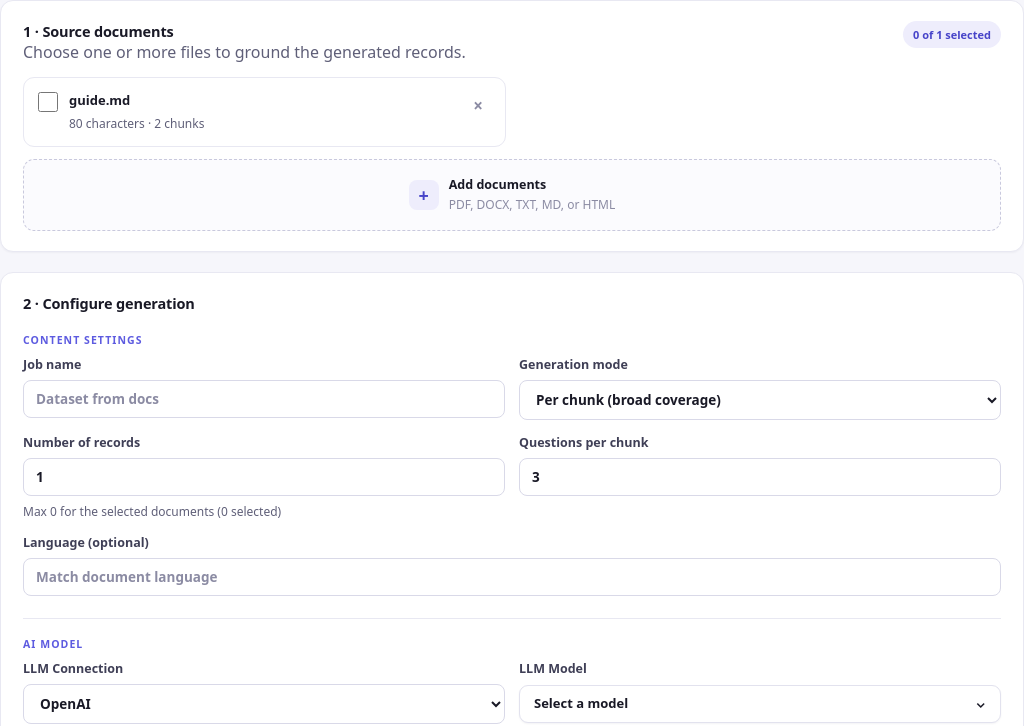
it: GenerateWizard › shows document delete failures and keeps the document
Click the button named "Delete guide.md".
click(478, 105)  # box top-left (465, 92), bottom-right (491, 118)
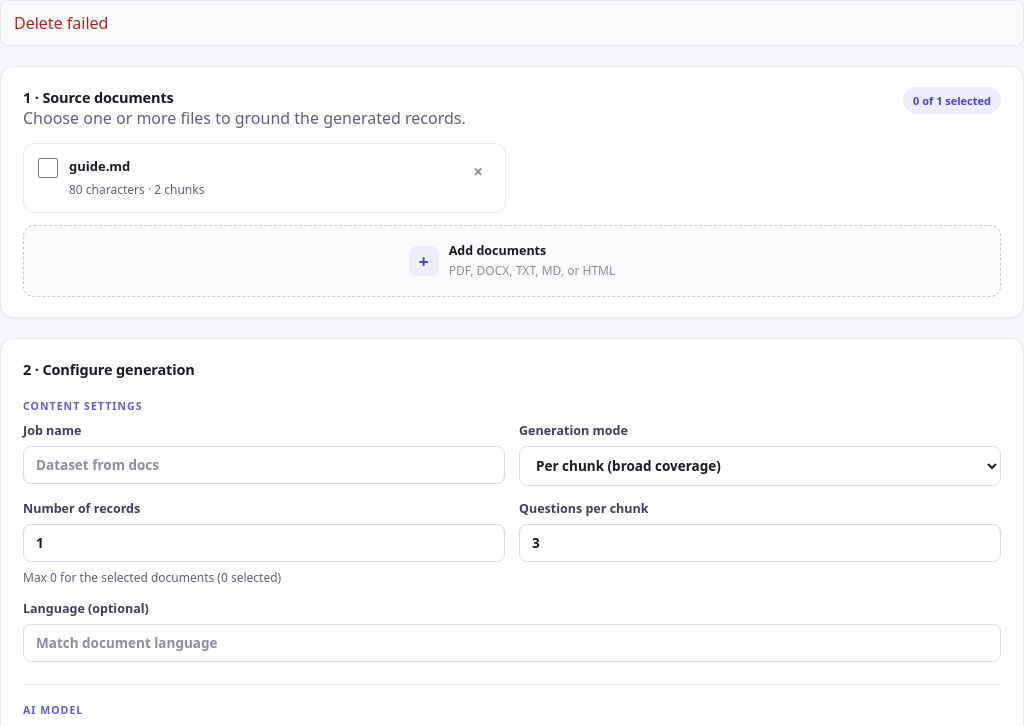
Expected: the text "guide.md" is shown, top-left (69, 157), bottom-right (130, 175)
Now the text "Delete failed" is shown, box top-left (0, 0), bottom-right (1023, 46)
